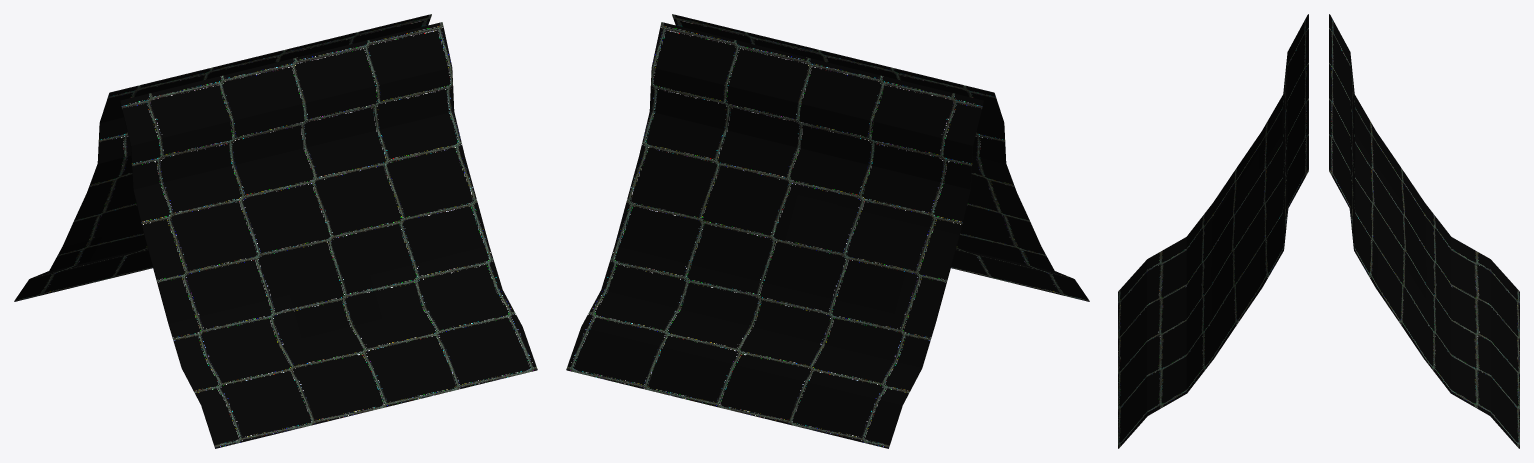
The model's file is DiveFloorCenterNetting.fbx.
3 views of the same model, side by side, from view 1: azimuth 30°, elevation 25°; view 2: azimuth 150°, elevation 25°; view 3: azimuth 270°, elevation 25° (orthographic).
Parts seen in each view (by area): view 1: Nets; view 2: Nets; view 3: Nets.
Part boxes in pixels (x1,y1,x2,y2): Nets: (14, 14, 537, 448); Nets: (566, 14, 1089, 448); Nets: (1118, 14, 1519, 448).
Size of the model in its own units: 429 by 355 by 465.
